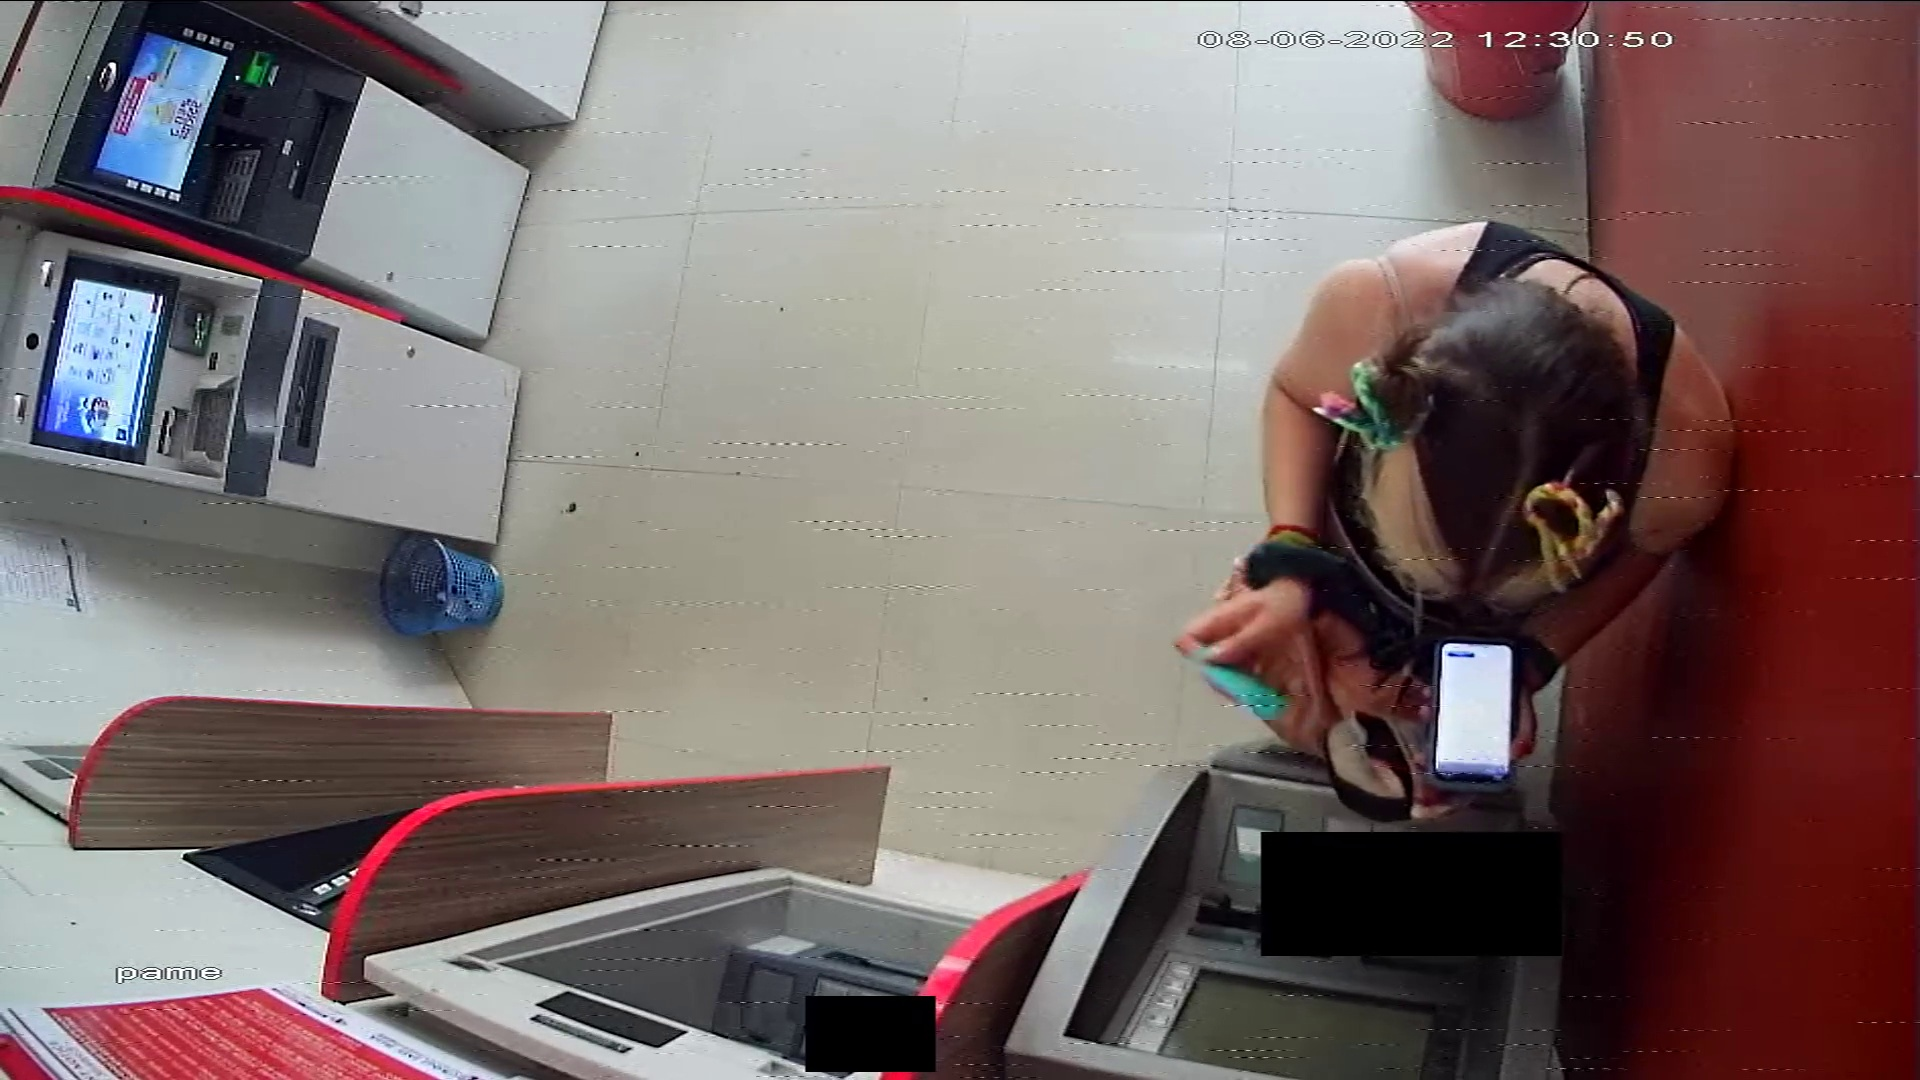person: (1173, 221, 1739, 762)
phone: (1435, 639, 1516, 788)
